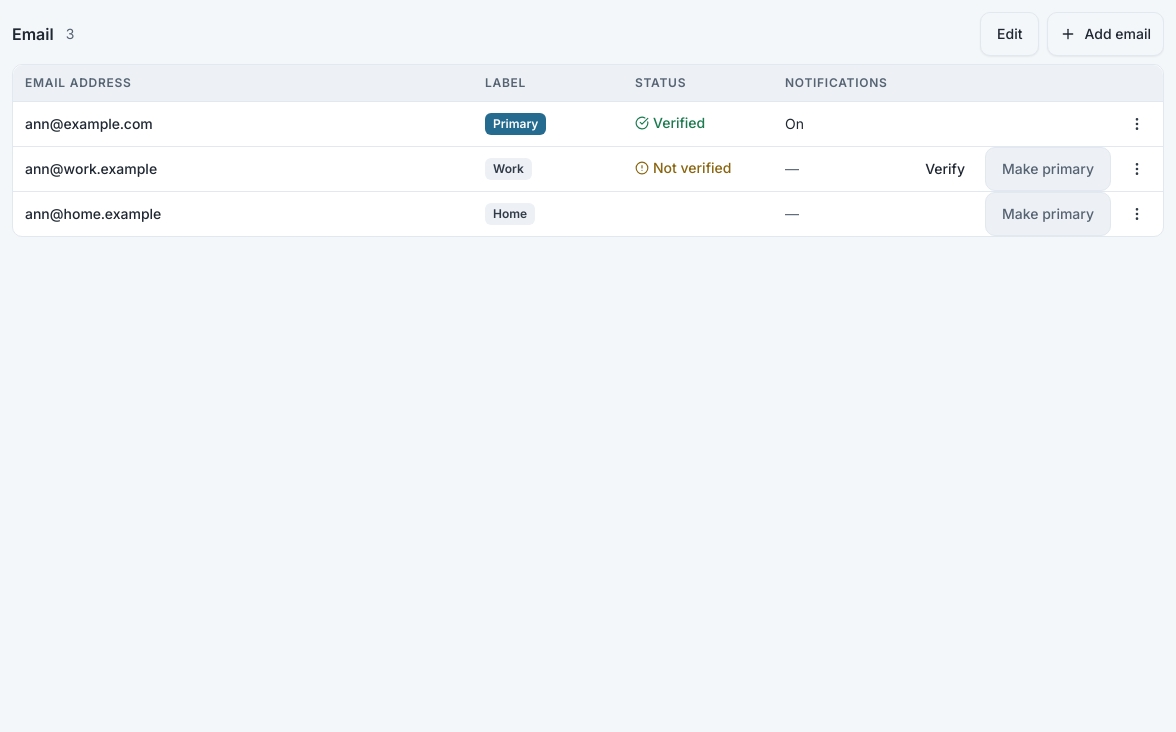
EmailSection: read-view entry points › the kebab's Remove opens edit with that row struck through and focus on its Restore
This screenshot has width=1176, height=732.
Step 1. Press Enter in the button named "More actions for ann@work.example", box [1115,146,1159,190]
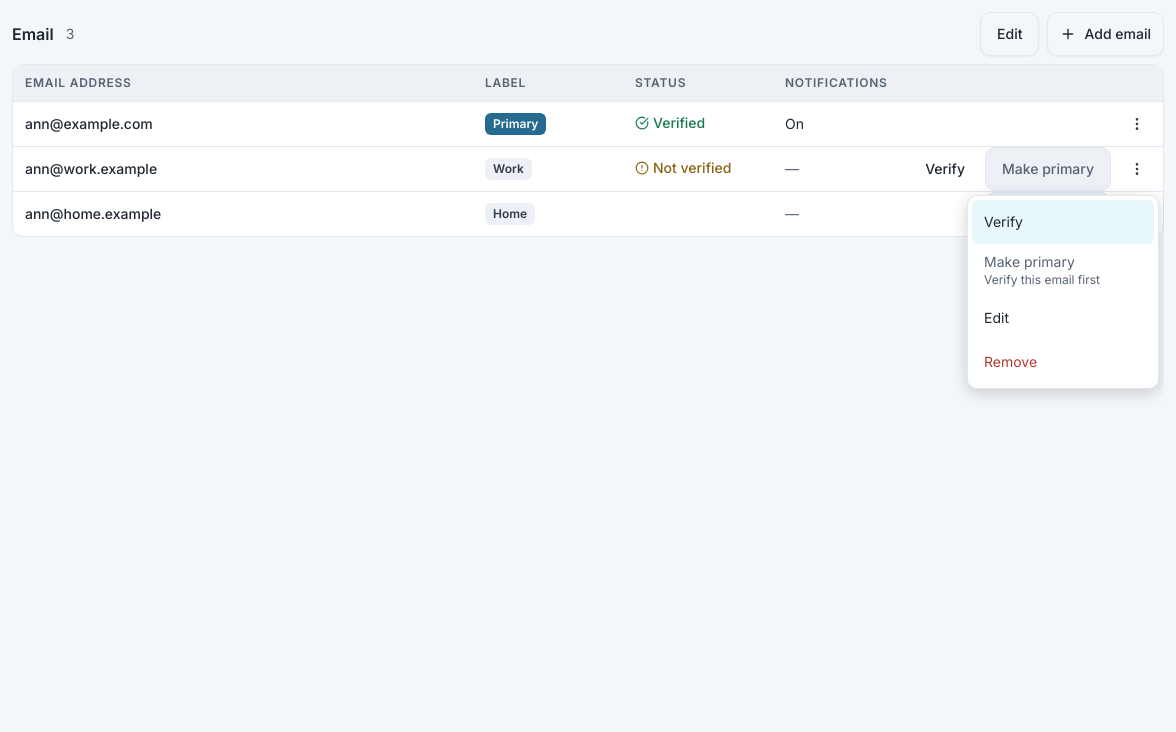
Step 2. Click the menu item "Remove" → x=1011, y=362, box [984,353,1037,370]
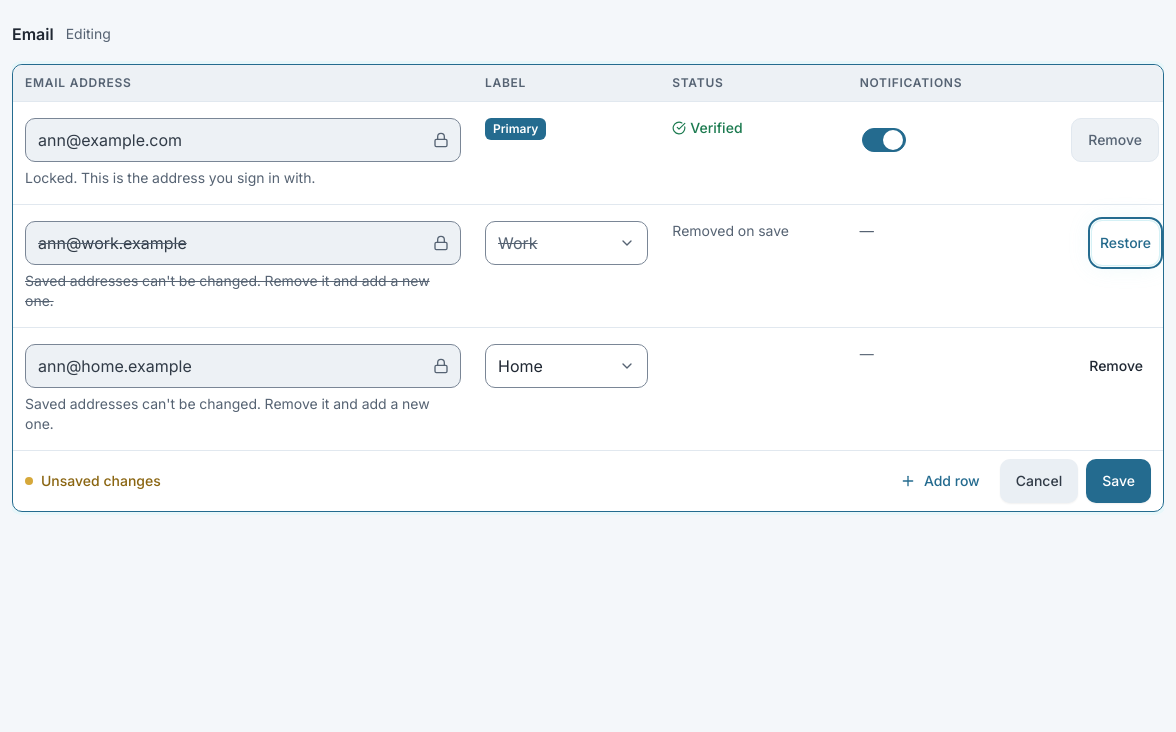
Expected: the text "Unsaved changes" is shown, [25,470,161,490]
